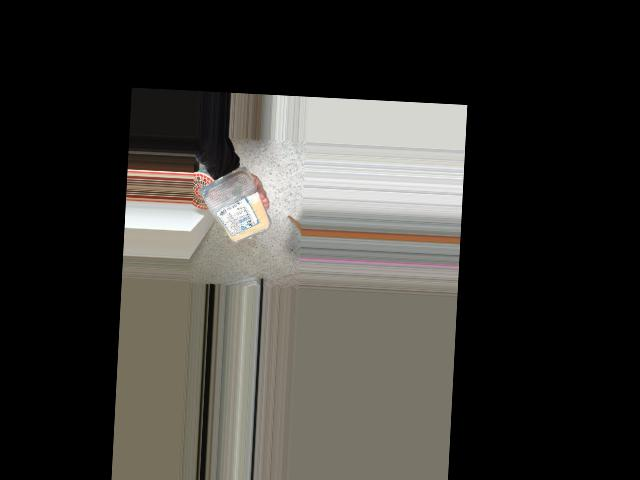cheese: (198, 169, 265, 249)
